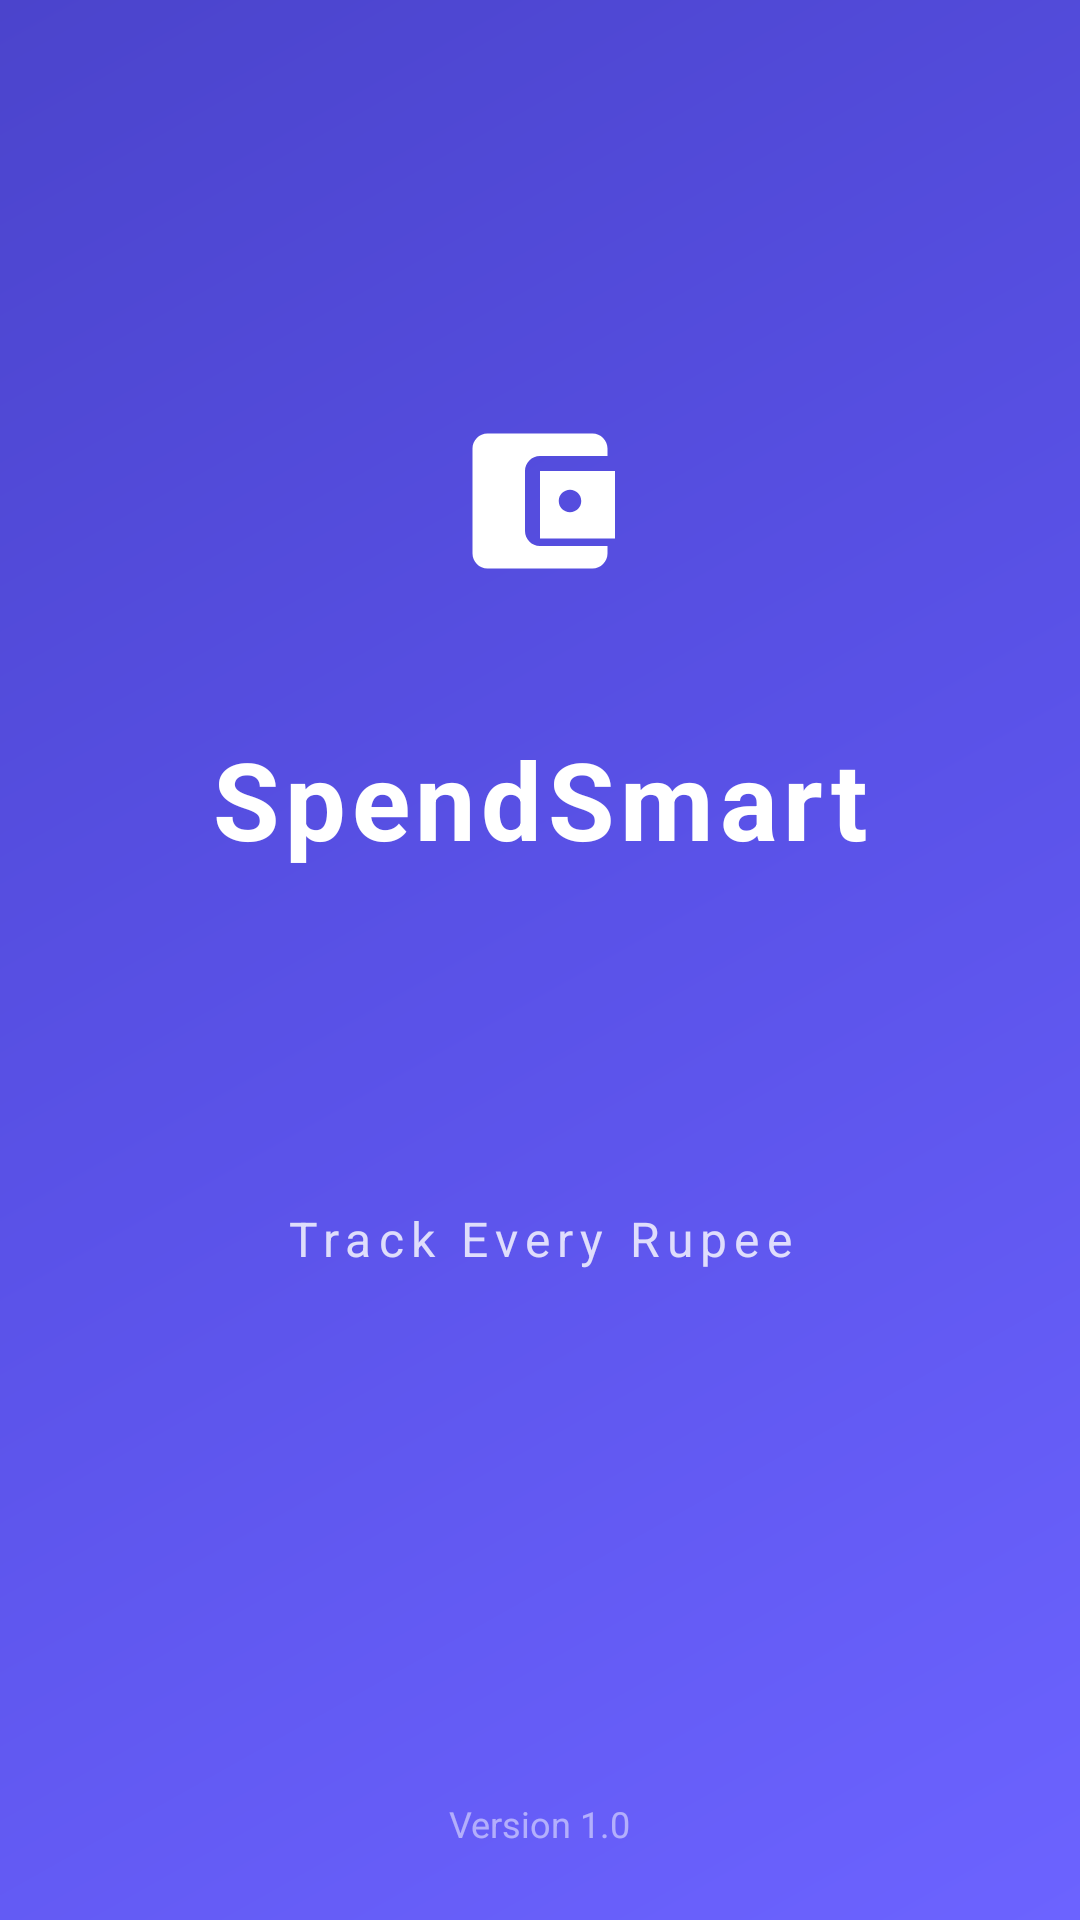

Where icons sit on this 1080 × 1920 app screen, as (x1, y1, x2, y2):
wallet: (472, 433, 615, 569)
